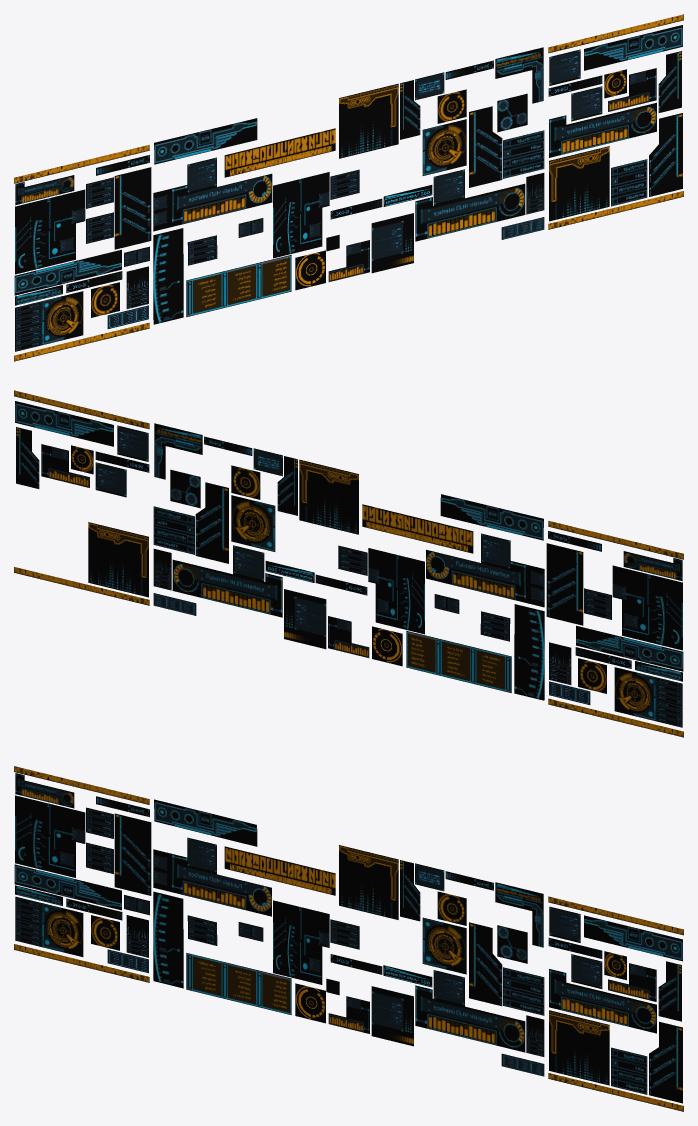
Rendered from Effect_mianban.FBX.
3 views of the same model, one above another, from view 1: azimuth 30°, elevation 25°; view 2: azimuth 150°, elevation 25°; view 3: azimuth 330°, elevation 25° (orthographic).
Parts seen in each view (by area): view 1: Effect_mianban; view 2: Effect_mianban; view 3: Effect_mianban.
Part boxes in pixels (left/top/right/bottom): Effect_mianban: left=14, top=14, right=683, bottom=361; Effect_mianban: left=14, top=390, right=683, bottom=737; Effect_mianban: left=14, top=766, right=683, bottom=1111.
Bounding box in the file's own units: 20.63 × 5.45 × 0.00123.
Materials: 1 (1 with a texture image).
